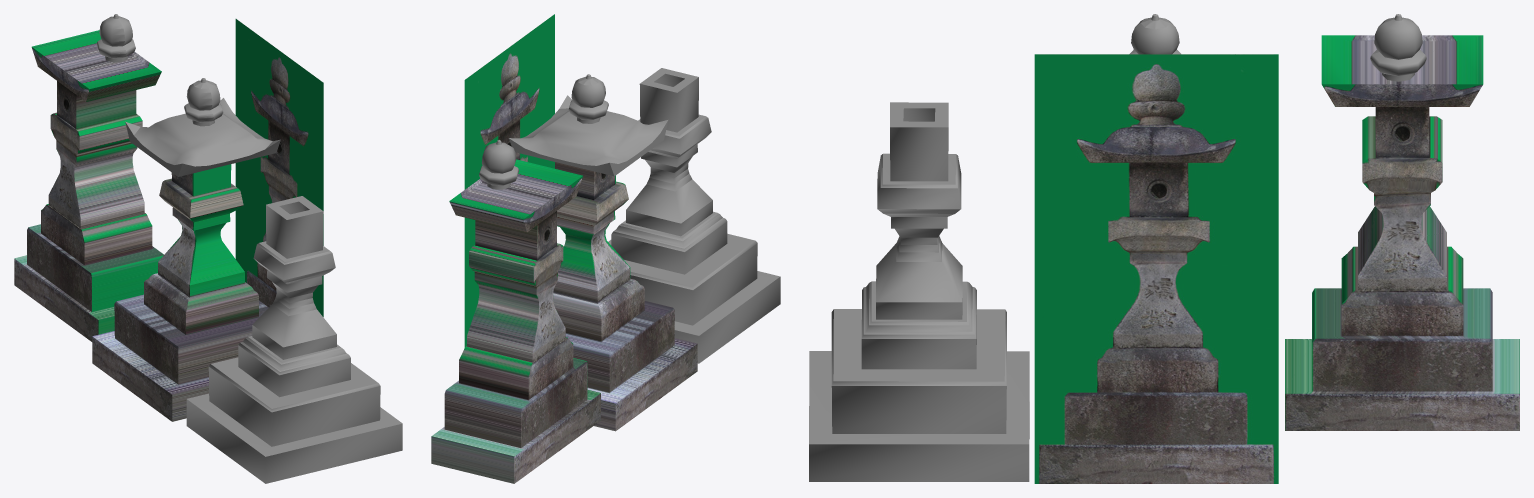
The model's file is lantern01.fbx.
3 renders of one model, left to right at view 1: azimuth 30°, elevation 25°; view 2: azimuth 150°, elevation 25°; view 3: azimuth 270°, elevation 25°, orthographic. The views are drawn at different scales.
Visible parts, largest first — view 1: Line03, Box01, Line02, Plane01, Box02, Line05, Line01; view 2: Box01, Line03, Line02, Plane01, Box02, Line01, Line05; view 3: Plane01, Box01, Line03, Line05, Line01.
Boxes of the visible parts, x1,y1,x2,y2 form: Line03: (186,196,402,483); Box01: (14,30,163,341); Line02: (92,164,268,421); Plane01: (235,19,323,316); Box02: (125,98,280,176); Line05: (96,14,135,62); Line01: (184,78,223,126); Box01: (431,159,600,483); Line03: (608,68,780,363); Line02: (553,162,697,431); Plane01: (464,14,554,347); Box02: (509,95,668,176); Line01: (568,74,608,123); Line05: (479,140,518,189); Plane01: (1034,54,1278,483); Box01: (1285,35,1519,430); Line03: (809,102,1029,481); Line05: (1370,14,1426,81); Line01: (1129,14,1180,54).
Bounding box in the file's own units: 751 × 1524 × 2285.
